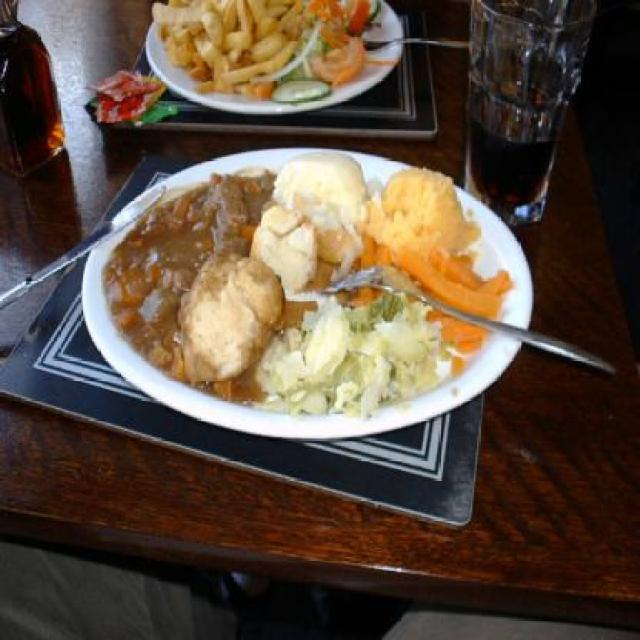French fries: (133, 0, 305, 124)
